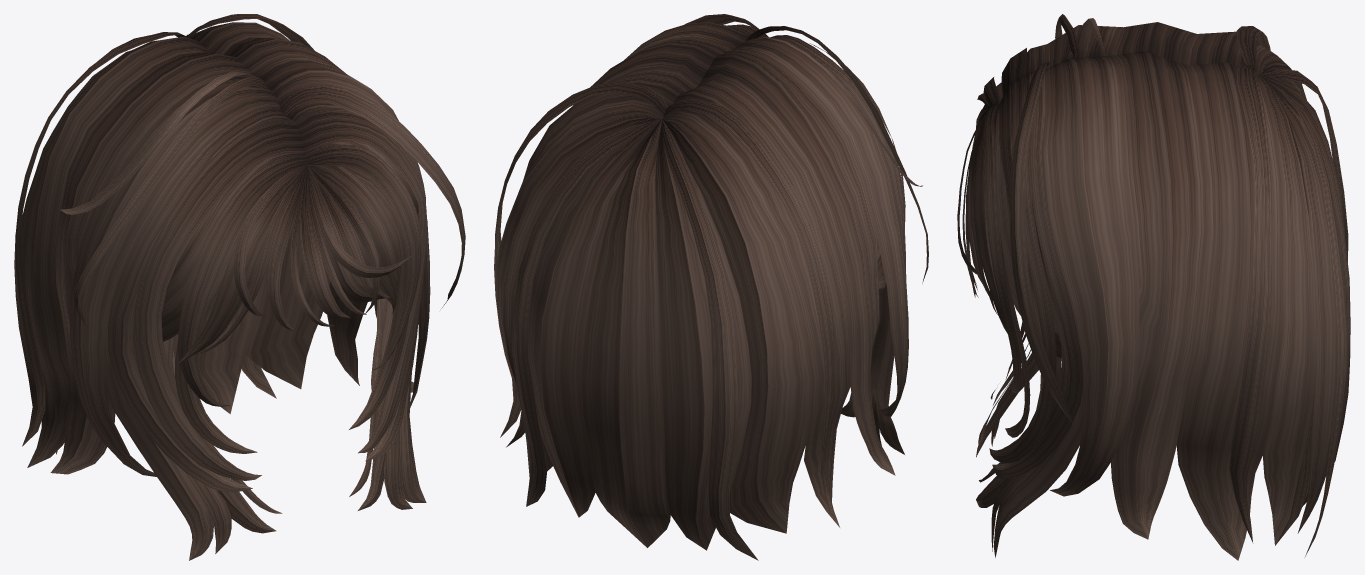
3 views of the same model, side by side, from view 1: azimuth 30°, elevation 25°; view 2: azimuth 150°, elevation 25°; view 3: azimuth 270°, elevation 25° (orthographic). The views are drawn at different scales.
Parts seen in each view (by area): view 1: geometry_0; view 2: geometry_0; view 3: geometry_0.
Part boxes in pixels (x1,y1,x2,y2): geometry_0: (14, 14, 465, 560); geometry_0: (494, 14, 928, 560); geometry_0: (957, 14, 1350, 560).
Size of the model in its own units: 1.7 by 1.96 by 1.46.
1 material, 1 textured.
